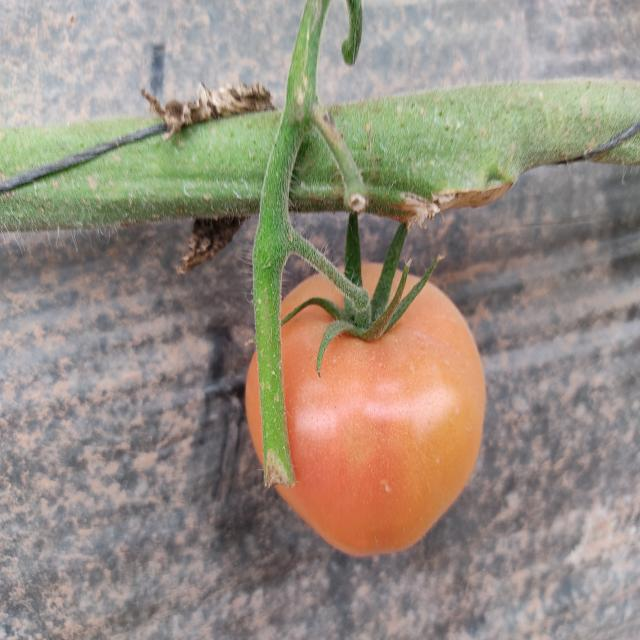Ripe Tomato: (248, 262, 485, 555)
